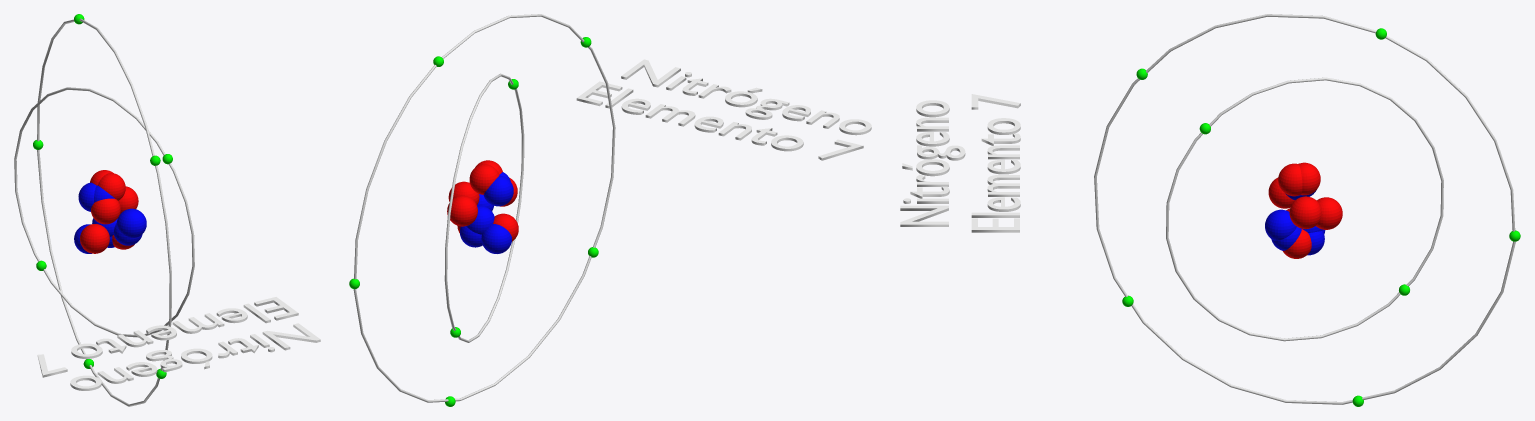
File: 7-nitrogeno.fbx
The picture shows the model from 3 angles, left to right: view 1: azimuth 30°, elevation 25°; view 2: azimuth 150°, elevation 25°; view 3: azimuth 270°, elevation 25°; orthographic projection. The views are drawn at different scales.
Parts seen in each view (by area): view 1: Info_Nitrogeno, Orbita_Nivel_2, Orbita_Nivel_1, Proton_5, Neutron_2, Proton_2, Proton_1, Neutron_5, Proton_7; view 2: Info_Nitrogeno, Orbita_Nivel_2, Orbita_Nivel_1, Proton_4, Neutron_6, Neutron_5, Proton_3, Neutron_1; view 3: Info_Nitrogeno, Orbita_Nivel_2, Orbita_Nivel_1, Proton_7, Neutron_2, Proton_1, Proton_4.
Part boxes in pixels (x1,y1,x2,y2): Info_Nitrogeno: (37, 297, 320, 390); Orbita_Nivel_2: (37, 18, 171, 406); Orbita_Nivel_1: (14, 87, 194, 337); Proton_5: (80, 224, 109, 253); Neutron_2: (117, 208, 146, 237); Proton_2: (91, 198, 120, 224); Proton_1: (98, 173, 125, 200); Neutron_5: (78, 182, 96, 211); Proton_7: (118, 186, 138, 213); Info_Nitrogeno: (576, 59, 871, 160); Orbita_Nivel_2: (353, 14, 615, 402); Orbita_Nivel_1: (444, 73, 524, 342); Proton_4: (447, 195, 477, 226); Neutron_6: (481, 224, 511, 253); Neutron_5: (483, 175, 513, 206); Proton_3: (469, 164, 499, 194); Neutron_1: (466, 206, 494, 234); Info_Nitrogeno: (900, 94, 1020, 232); Orbita_Nivel_2: (1094, 14, 1515, 404); Orbita_Nivel_1: (1166, 77, 1443, 341); Proton_7: (1289, 196, 1321, 229); Neutron_2: (1265, 209, 1296, 240); Proton_1: (1278, 163, 1302, 196); Proton_4: (1316, 197, 1342, 229).
Bounding box in the file's own units: 453 × 602 × 871.
